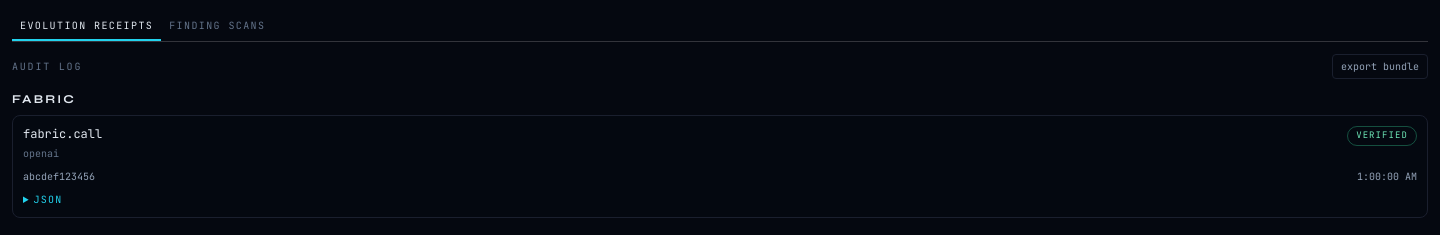
Scenario: ReceiptsDrawer › tab switch renders findings section
Click the button with test id "tab-finding-scans" at (217, 26), box 161,12 -> 273,41
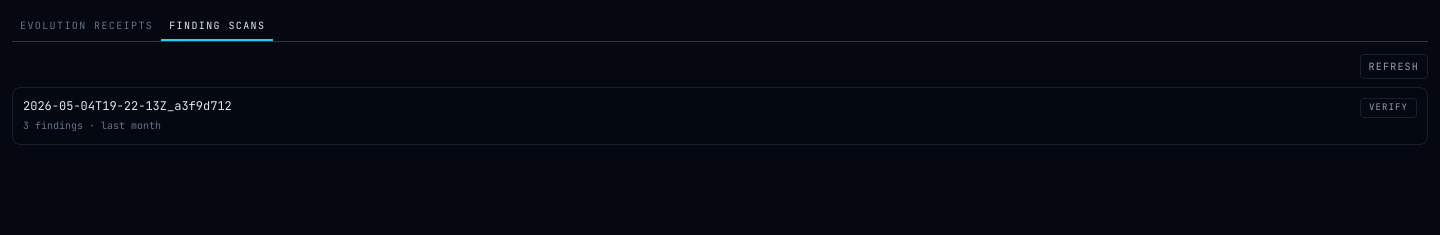
Expected: the text "2026-05-04" is shown, 23,98 -> 232,114
Expected: the text "findings" is shown, 29,119 -> 101,132
